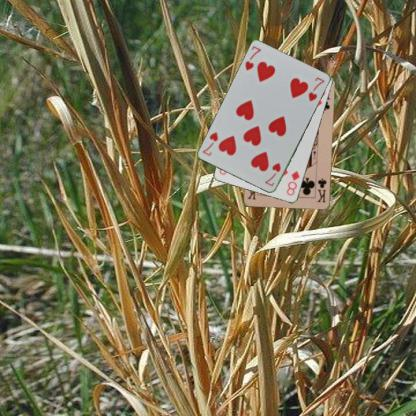7h: (262, 160, 282, 188), (243, 44, 262, 72)
8d: (284, 168, 301, 197)
Kc: (315, 176, 327, 203)
